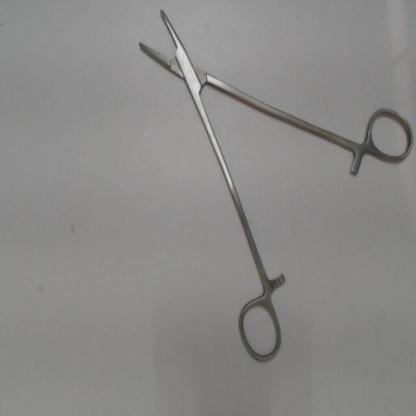8 Mayo Needle Holder: (127, 1, 414, 368)
